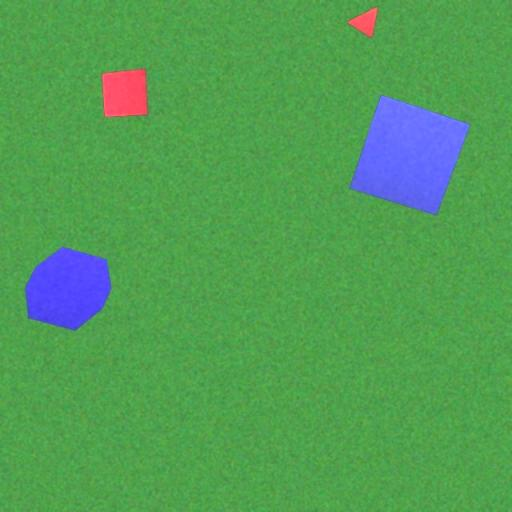BLUE_SQUARE: (349, 94, 470, 216)
RED_SQUARE: (101, 68, 149, 118)
